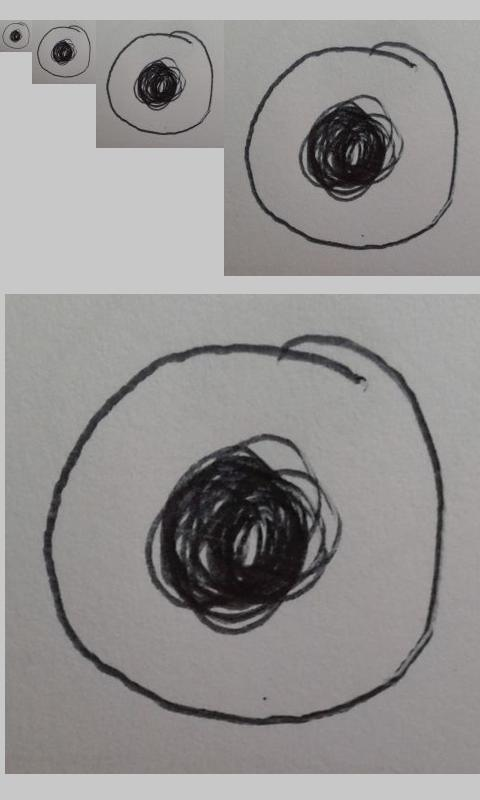radio_button: (43, 331, 446, 728), (243, 39, 460, 251), (105, 29, 215, 137), (36, 24, 91, 78), (1, 21, 31, 50)
